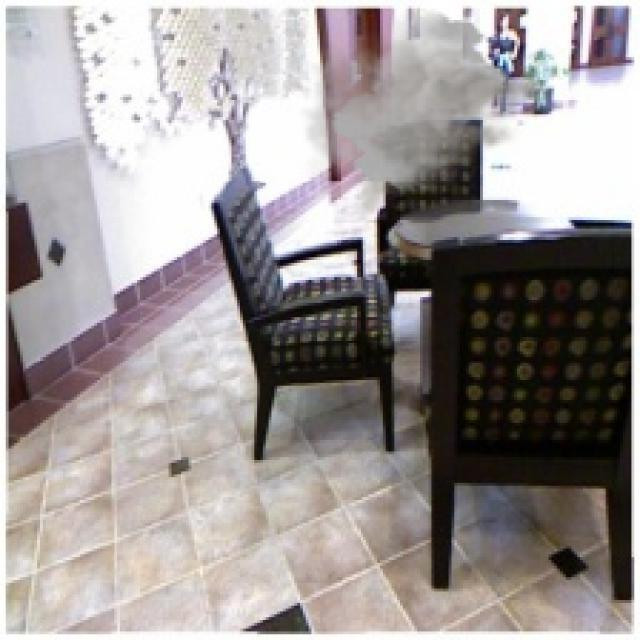Smoke: (297, 8, 557, 220)
